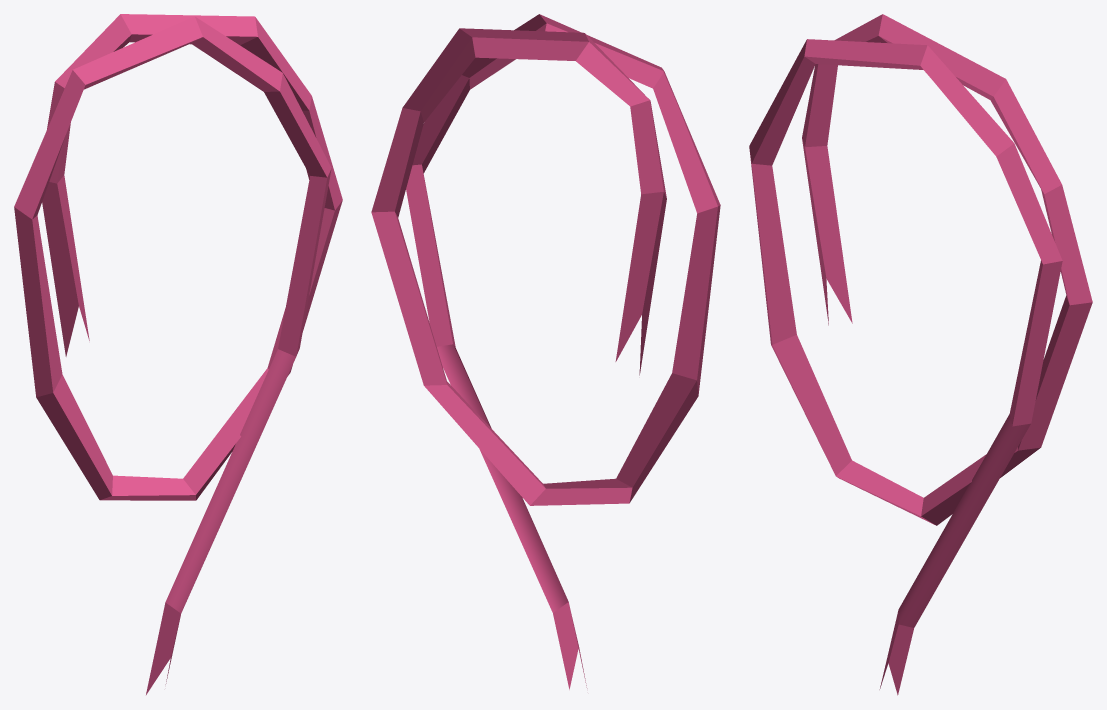
Rendered from rope.obj.
The picture shows the model from 3 angles, left to right: view 1: azimuth 30°, elevation 25°; view 2: azimuth 150°, elevation 25°; view 3: azimuth 330°, elevation 25°; orthographic projection.
Parts seen in each view (by area): view 1: Plane01; view 2: Plane01; view 3: Plane01.
Boxes of the visible parts, <box> form: Plane01: <box>14,14,342,694</box>; Plane01: <box>371,14,720,689</box>; Plane01: <box>749,14,1092,695</box>.
Bounding box in the file's own units: 41.03 × 78.08 × 4.67.
